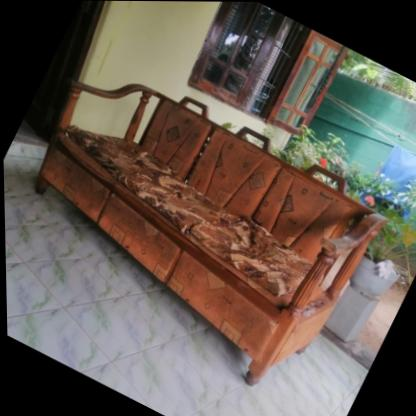Ceramic floor: (3, 122, 370, 416)
Sofa: (1, 43, 401, 411)
